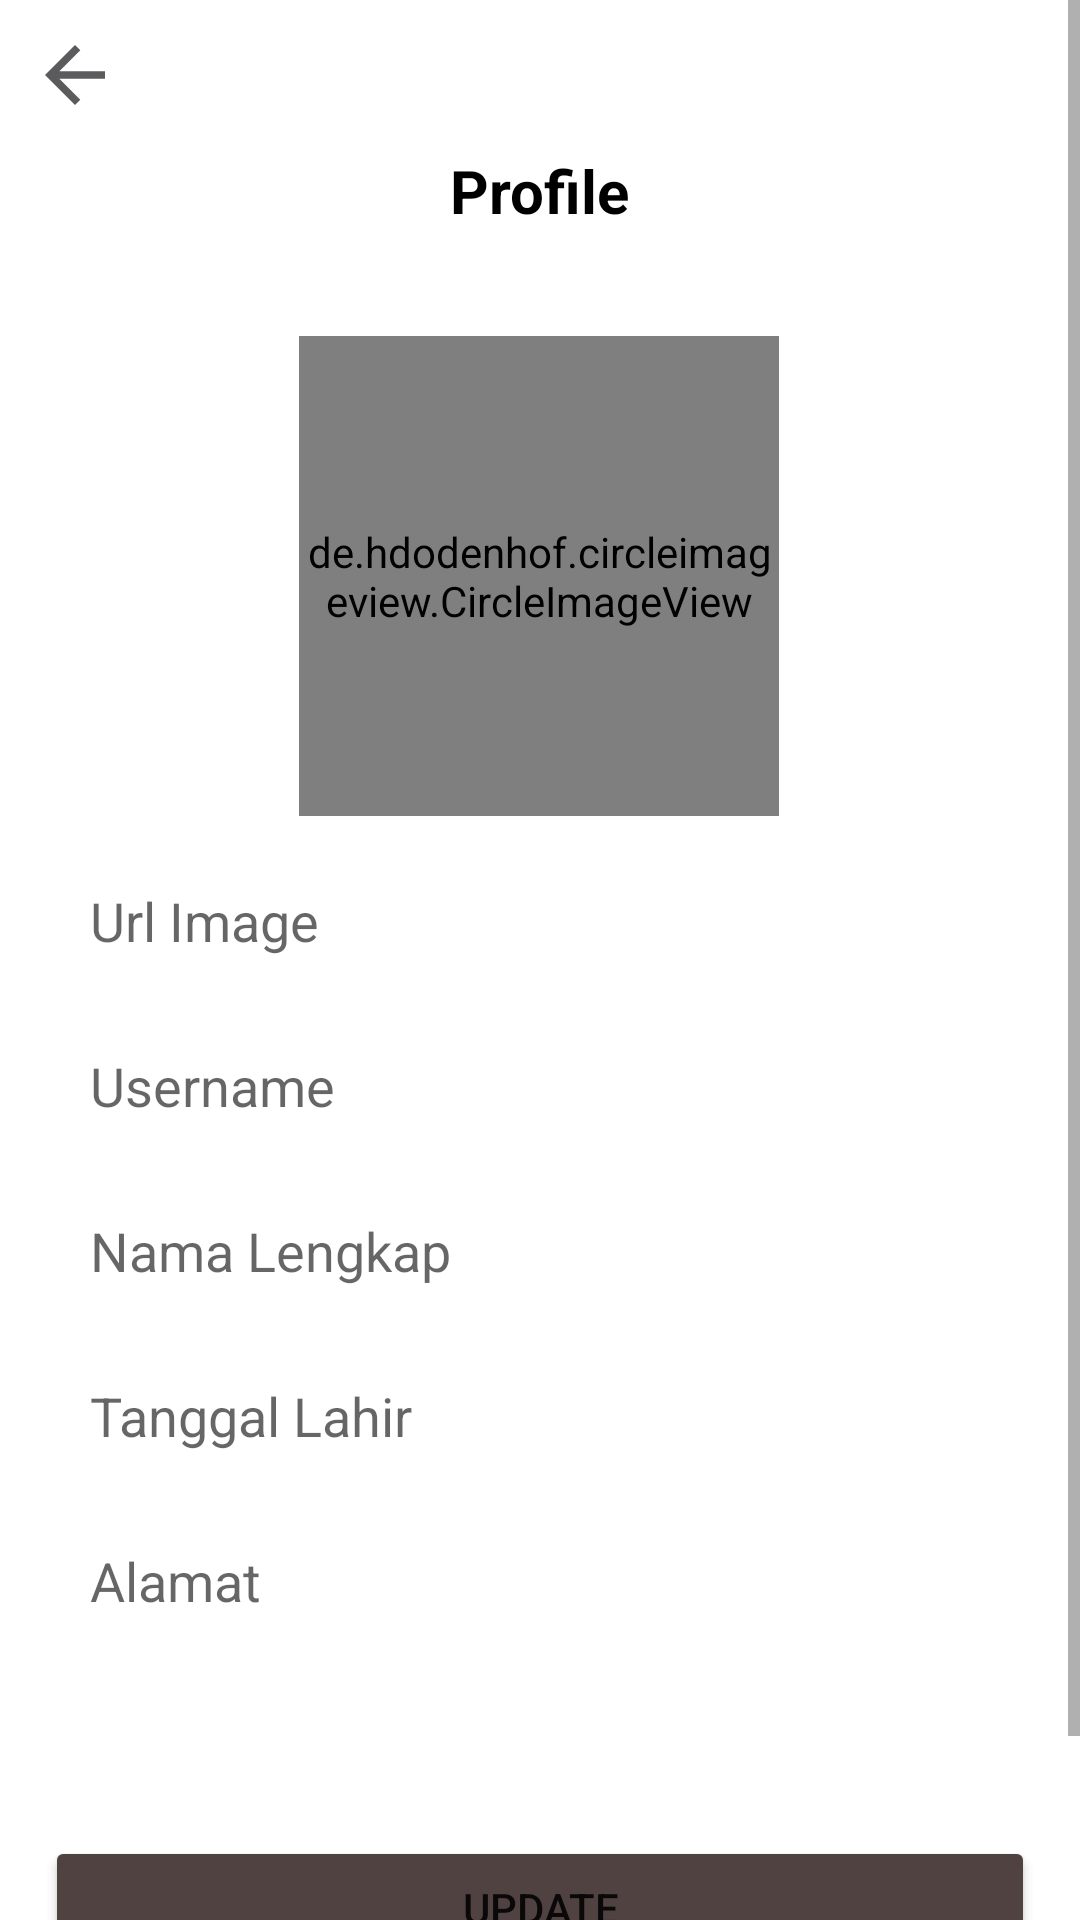

Icons on this 1080px×1920px Android screen, each with its box as (x1,y1,x2,y2):
arrow back: (45,45,105,105)
